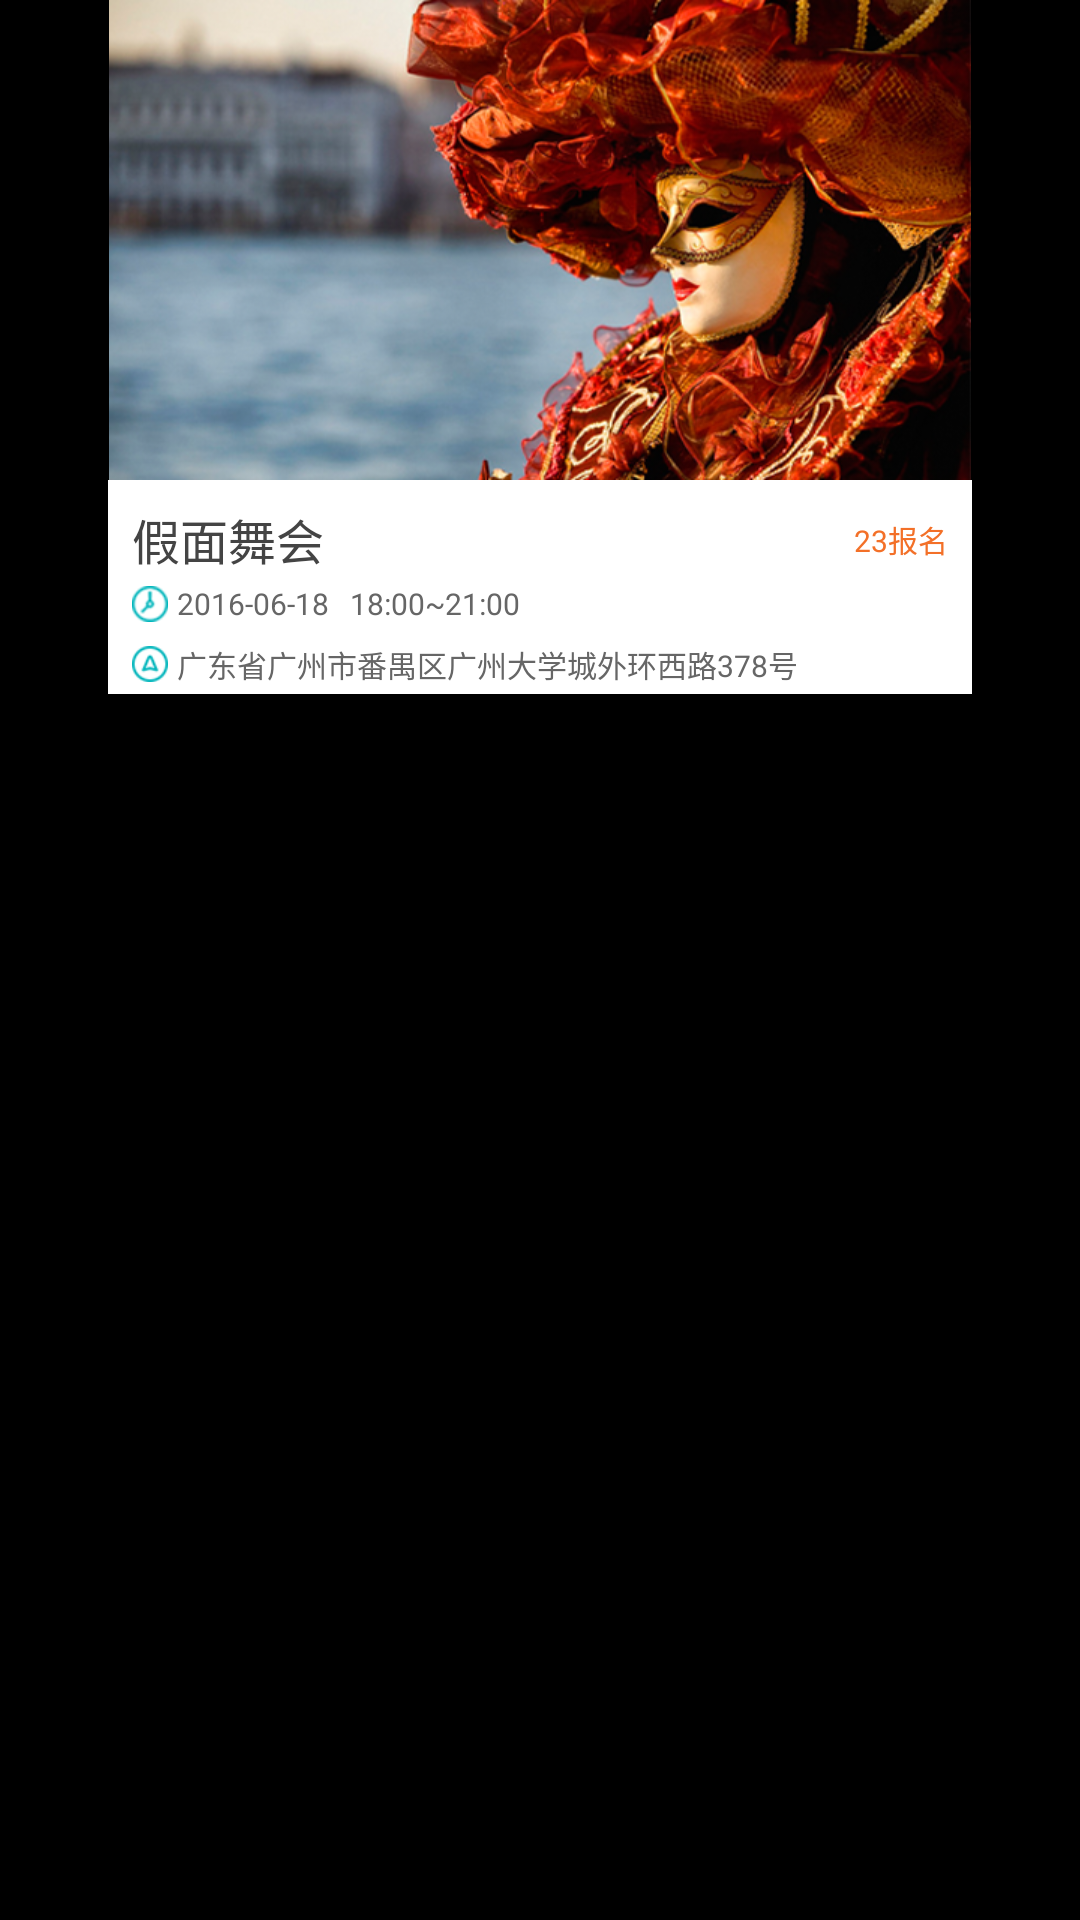

Point at icon controls on the screen. Image size 1080w x 1920h, points as point (x, y).
address: point (150, 664)
time: point (150, 604)
